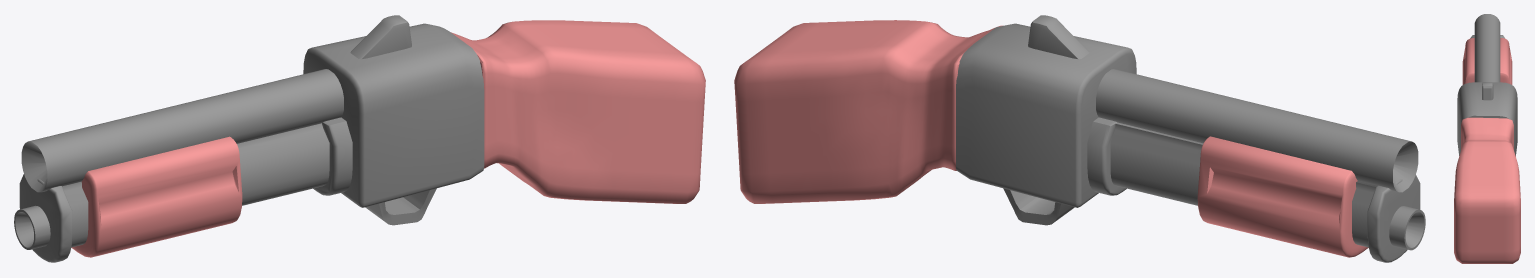
The model's file is Shotgun.fbx.
The picture shows the model from 3 angles, left to right: view 1: azimuth 30°, elevation 25°; view 2: azimuth 150°, elevation 25°; view 3: azimuth 270°, elevation 25°; orthographic projection. The views are drawn at different scales.
Parts seen in each view (by area): view 1: shotgun; view 2: shotgun; view 3: shotgun.
Boxes of the visible parts, x1,y1,x2,y2 form: shotgun: (14,15,705,262); shotgun: (734,15,1425,262); shotgun: (1454,14,1520,263).
Size of the model in its own units: 117 by 39.15 by 20.69.
